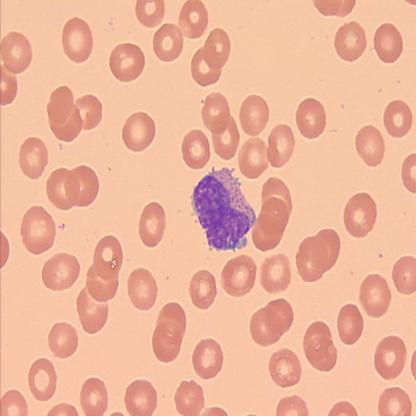Myelocyte: (192, 168, 255, 249)
